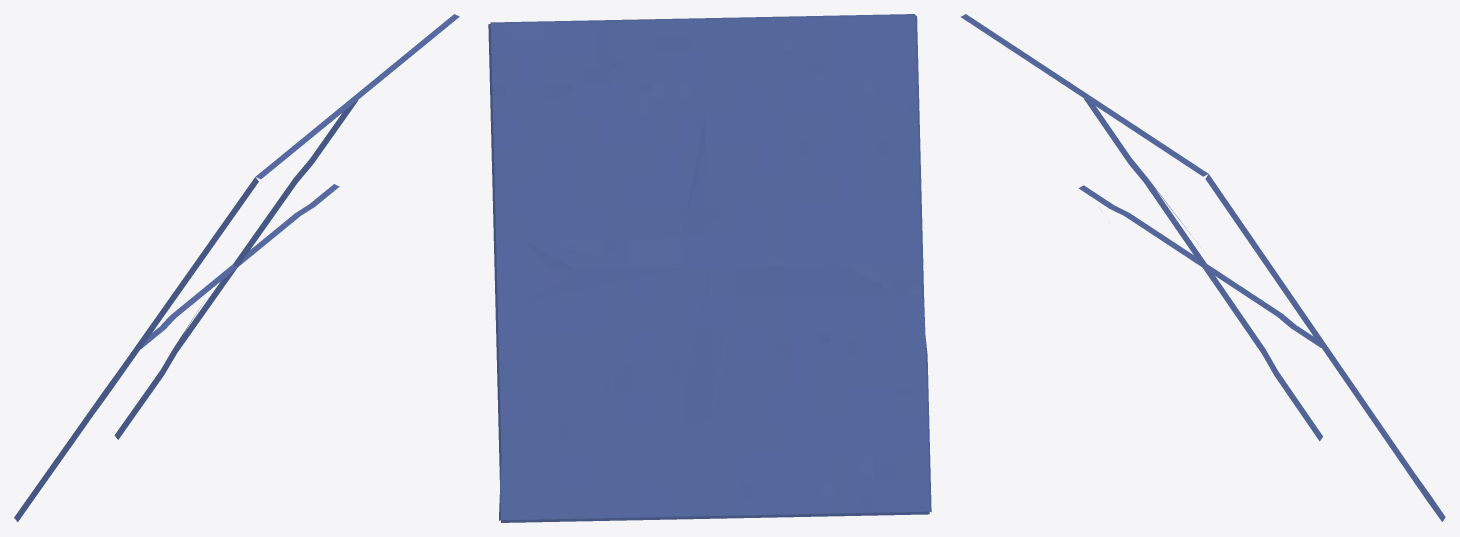
3 views of the same model, side by side, from view 1: azimuth 30°, elevation 25°; view 2: azimuth 150°, elevation 25°; view 3: azimuth 270°, elevation 25° (orthographic). The views are drawn at different scales.
Size of the model in its own units: 79382 by 67195 by 71883.
1 material, 1 textured.
